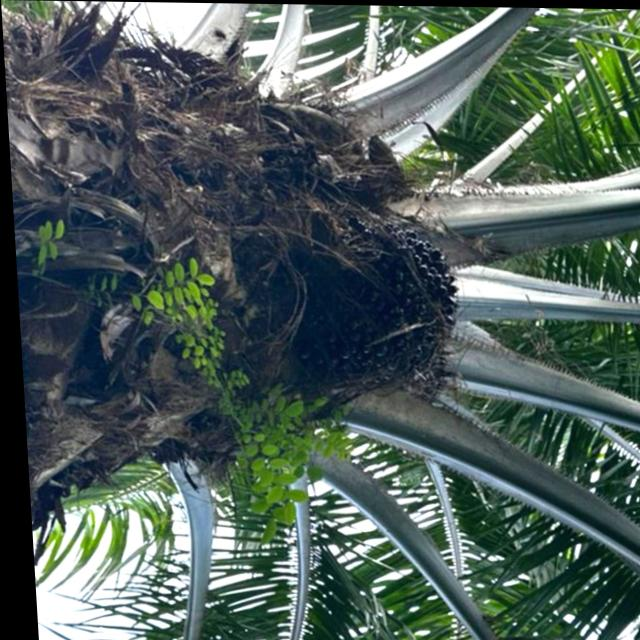almost: (279, 212, 471, 393)
